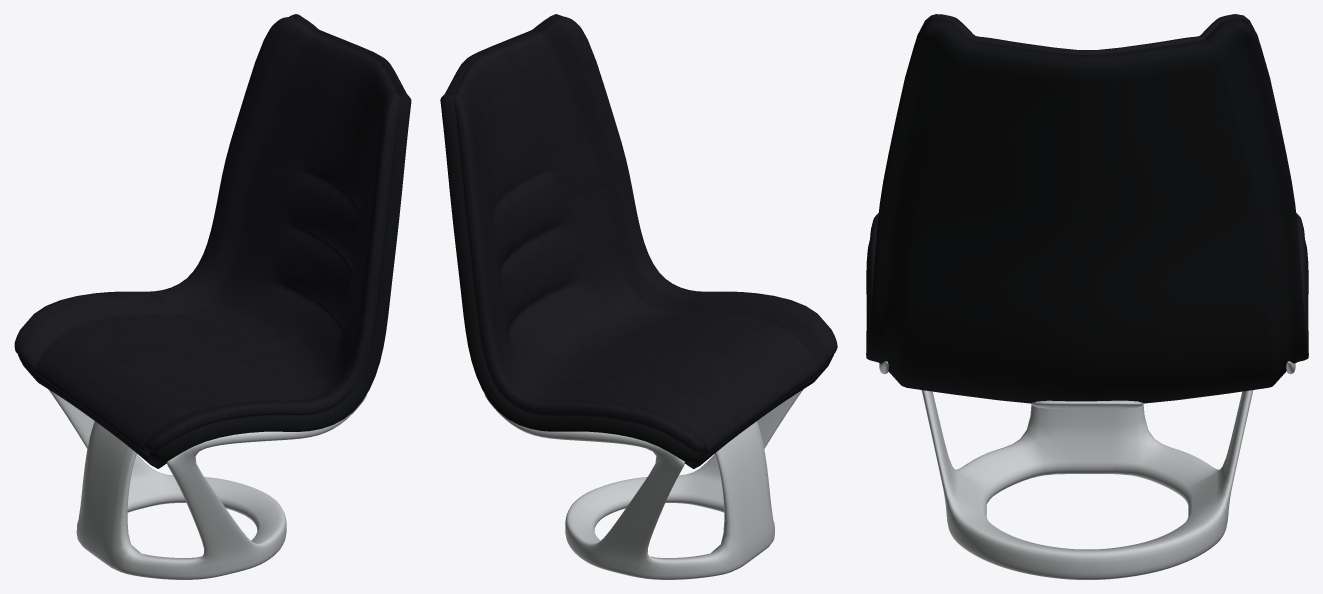
Rendered from chair.glb.
3 views of the same model, side by side, from view 1: azimuth 30°, elevation 25°; view 2: azimuth 150°, elevation 25°; view 3: azimuth 270°, elevation 25° (orthographic). The views are drawn at different scales.
Parts seen in each view (by area): view 1: OBJ_HighTechChair_base; view 2: OBJ_HighTechChair_base; view 3: OBJ_HighTechChair_base.
Part boxes in pixels (x1,y1,x2,y2): OBJ_HighTechChair_base: [14, 14, 411, 579]; OBJ_HighTechChair_base: [440, 14, 837, 579]; OBJ_HighTechChair_base: [866, 14, 1308, 579].
Bounding box in the file's own units: 0.6075 × 0.8447 × 0.5523.
1 material, 1 textured.
